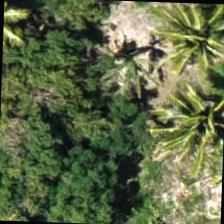Kelapa_Sawit: (161, 81, 223, 175), (155, 1, 223, 80)
